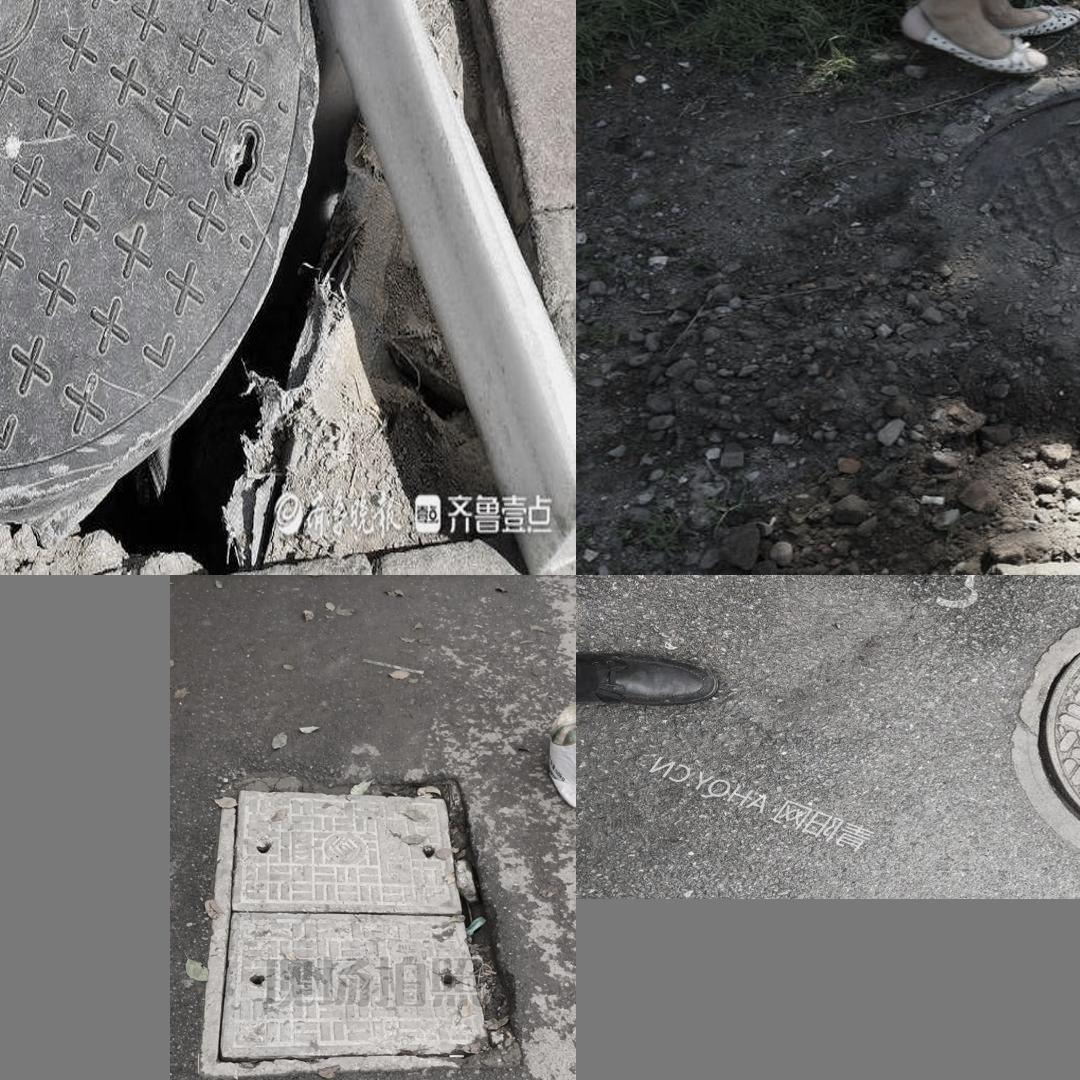circle: (0, 0, 501, 544), (203, 777, 525, 1076), (836, 76, 1080, 413), (989, 593, 1080, 876)
